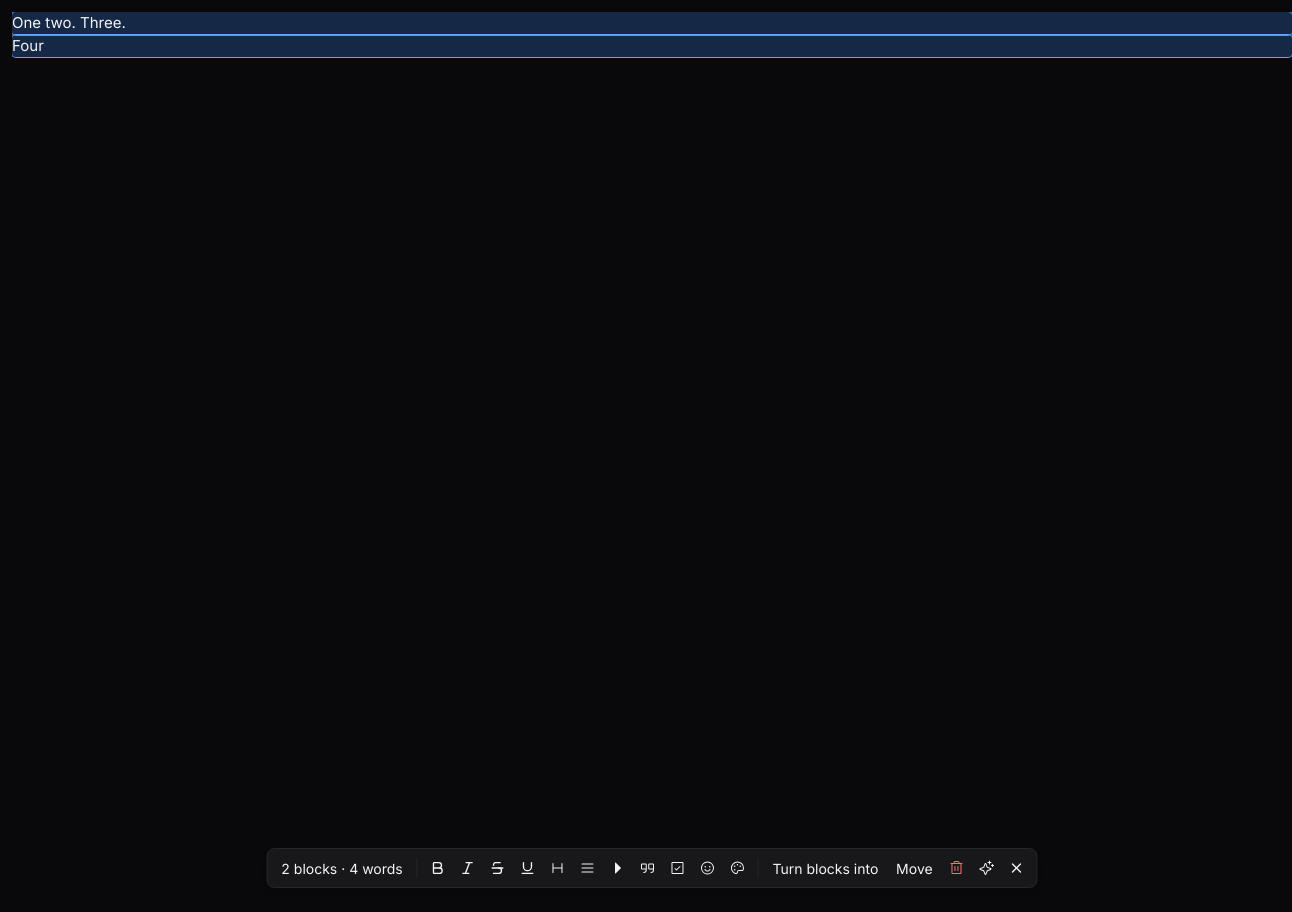
Test: <BlockSelectionBar> › the stats dropdown counts the selected blocks
Press the mouse on the button "2 blocks · 4 words" at (342,868), box 274,854 -> 411,882
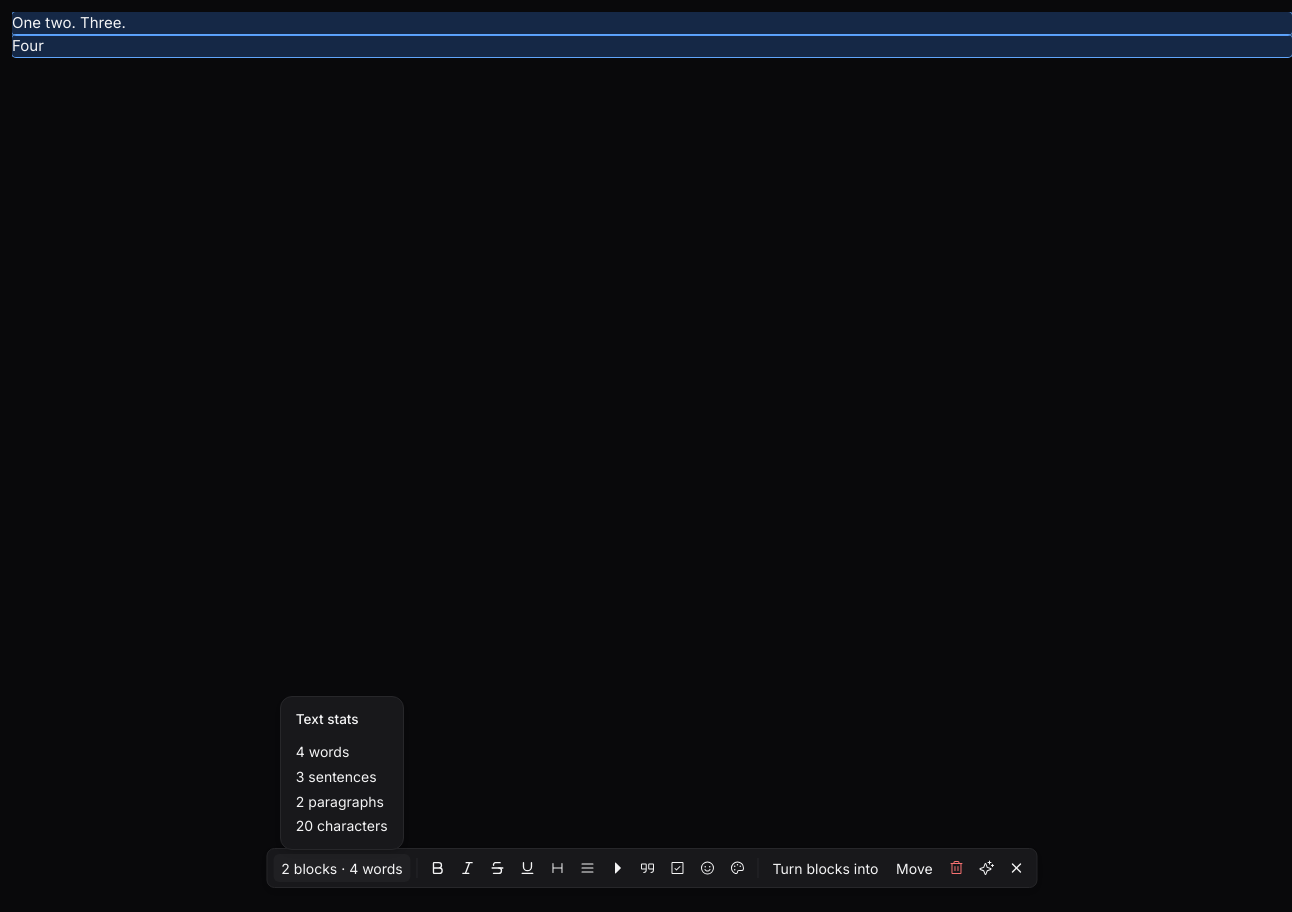
expect the text "Text stats" is shown: met, box 296,711 -> 359,727
expect the list items read "4 words", "3 sentences", "2 paragraphs", "20 characters", in this order: met, box 296,743 -> 349,760; 296,764 -> 388,789; 296,789 -> 388,814; 296,814 -> 388,838
